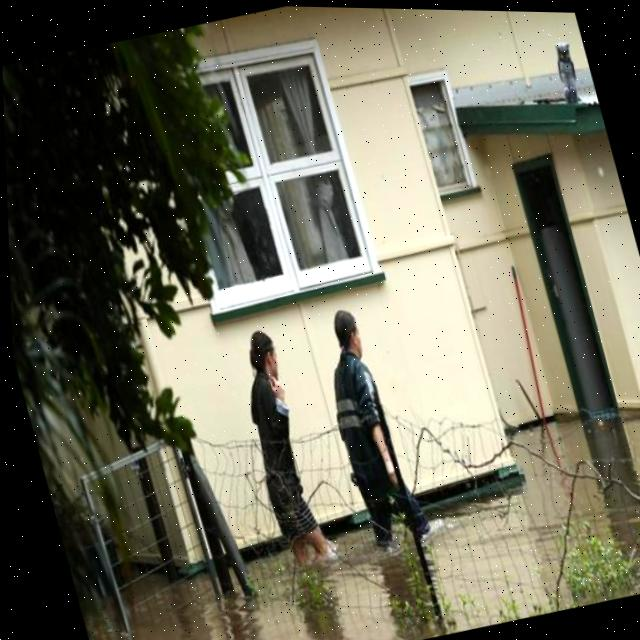civilian: (305, 298, 445, 561), (217, 317, 344, 577)
